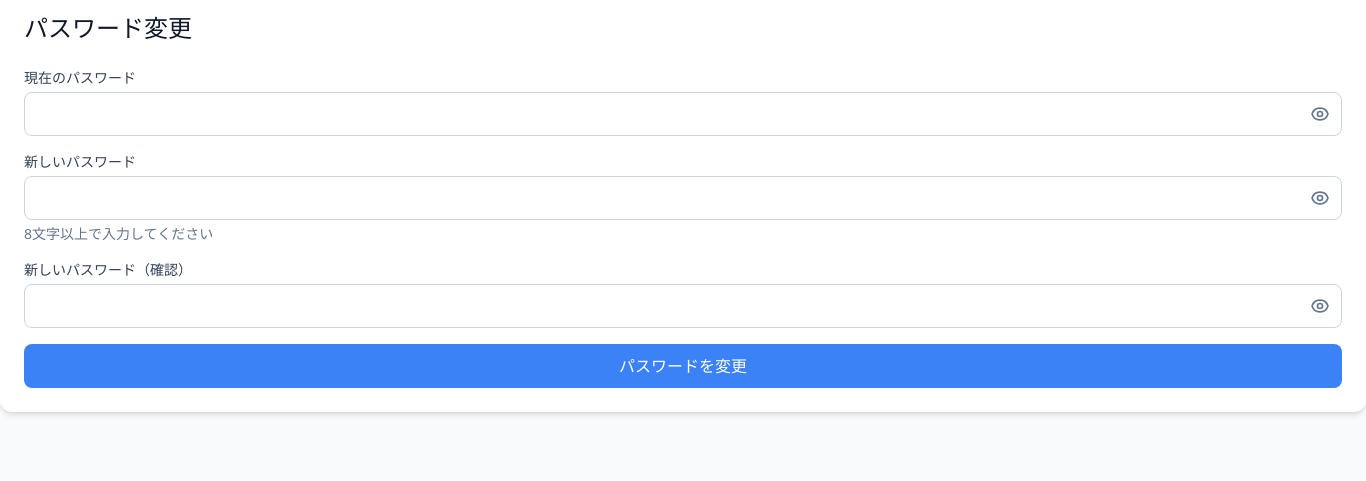
PasswordChangeForm › Validation › should show error when all fields are empty
What coordinates should you click on to do the following:
click the button "パスワードを変更"
I would click on:
 (683, 366)
Its box is x1=24 y1=344 x2=1342 y2=388.
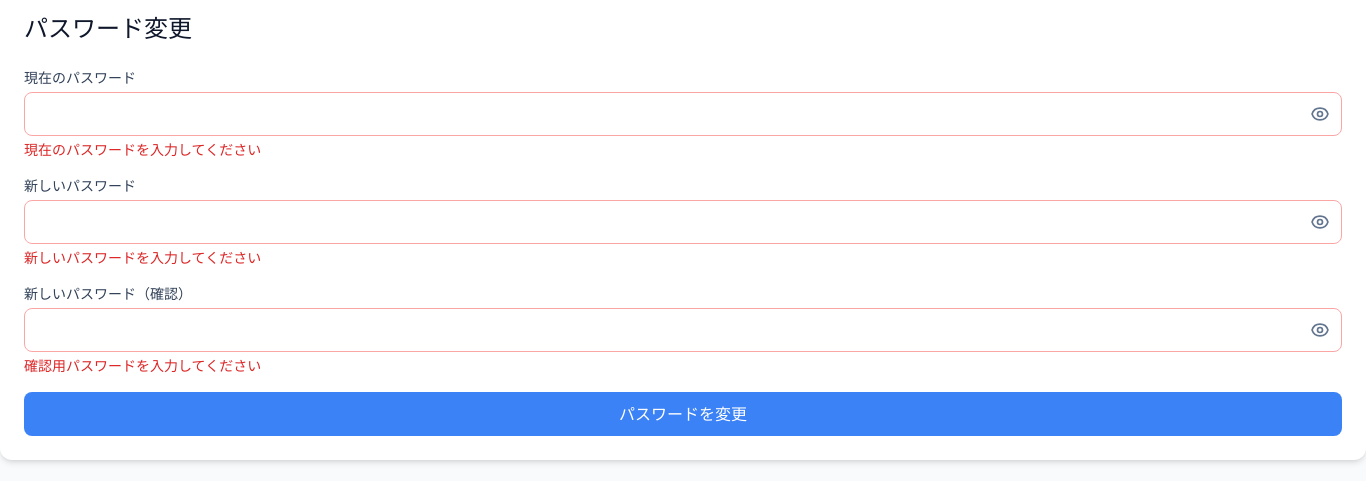
Now the text "現在のパスワードを入力してください" is shown, box x1=24 y1=140 x2=261 y2=159
Now the text "新しいパスワードを入力してください" is shown, box x1=24 y1=248 x2=261 y2=267
Now the text "確認用パスワードを入力してください" is shown, box x1=24 y1=356 x2=261 y2=375
